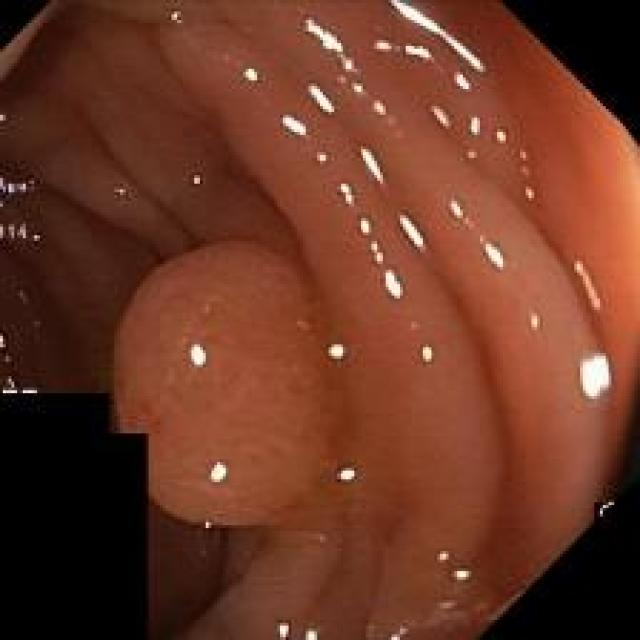Polyps: (115, 244, 334, 527)
